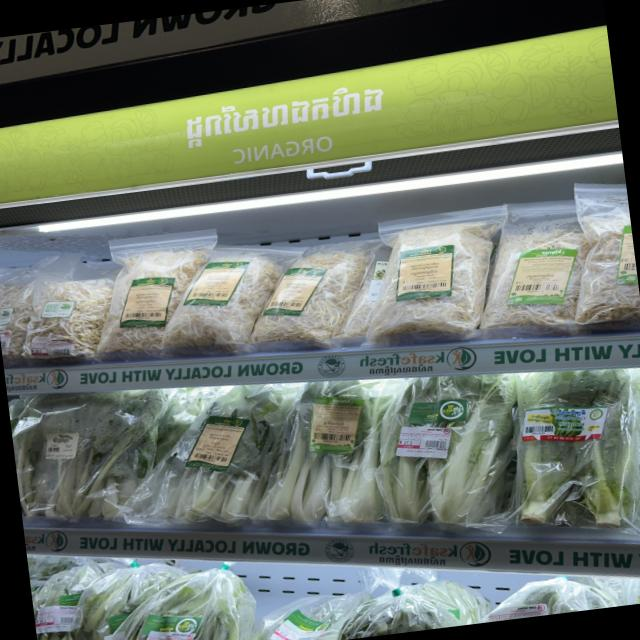Yolov11kh: (171, 71, 399, 155)
